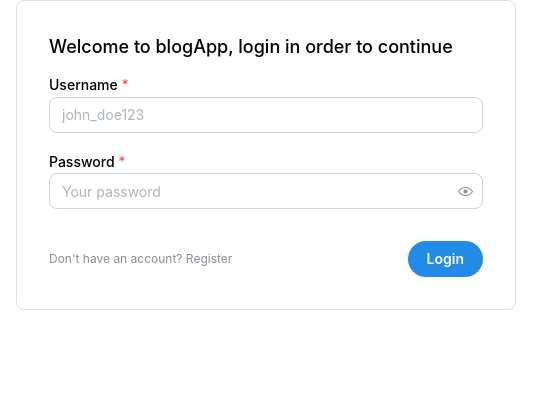
it: Authentication › AutheticationForm › pressing the toggle form type button correctly switches to the register form
Click the button with test id "toggleFormType" at (141, 259), box [49,251,232,268]
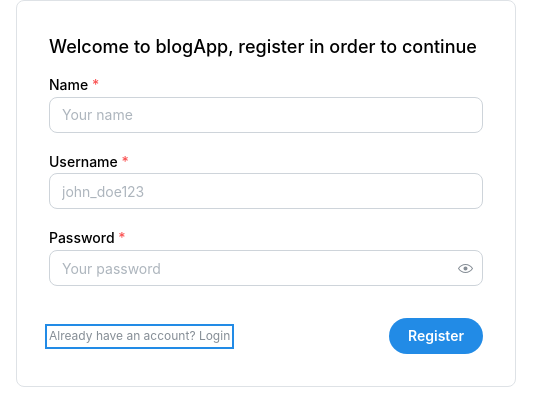
Expected: the text "Welcome to blogApp, register in order to continue" is shown, [49,33,483,62]
Expected: the text "Name" is shown, [49,76,88,93]
Expected: the button with test id "toggleFormType" reads "Already have an account? Login", [49,328,230,345]
